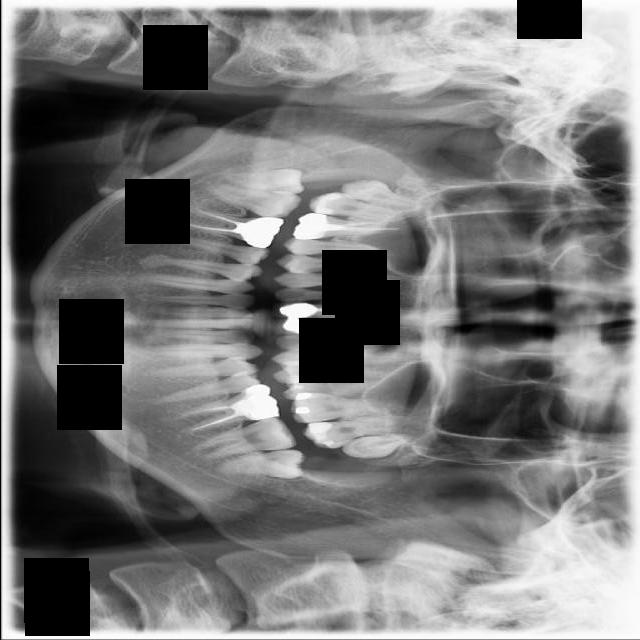3M ESPE Implant: (336, 175, 419, 210)
52: (234, 202, 287, 257), (235, 381, 281, 424), (290, 208, 330, 245), (272, 316, 322, 337), (271, 302, 318, 319), (306, 421, 335, 443), (291, 390, 312, 401), (292, 406, 310, 415)
73: (176, 394, 250, 436), (182, 205, 245, 240), (322, 212, 403, 238), (311, 299, 385, 317), (311, 318, 382, 333), (22, 618, 37, 630)
BioHorizons Implant: (300, 414, 404, 451)
BioLife Implant: (342, 434, 408, 459)
Biomet 3i Implant: (215, 443, 307, 481)
Blue Sky Bio Implant: (194, 414, 297, 461)
Caries: (306, 190, 406, 222)
Implant: (208, 179, 304, 222)
Keystone Dental Implant: (221, 167, 305, 201)
